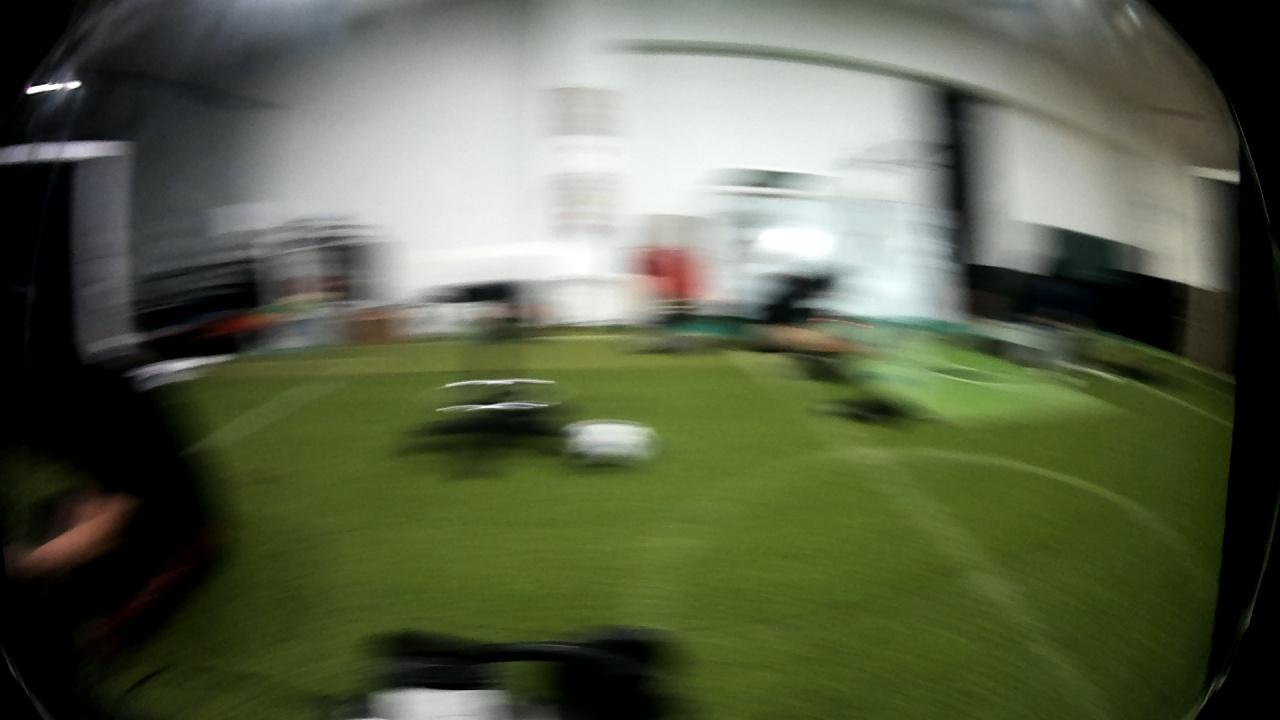ball: (555, 414, 662, 477)
